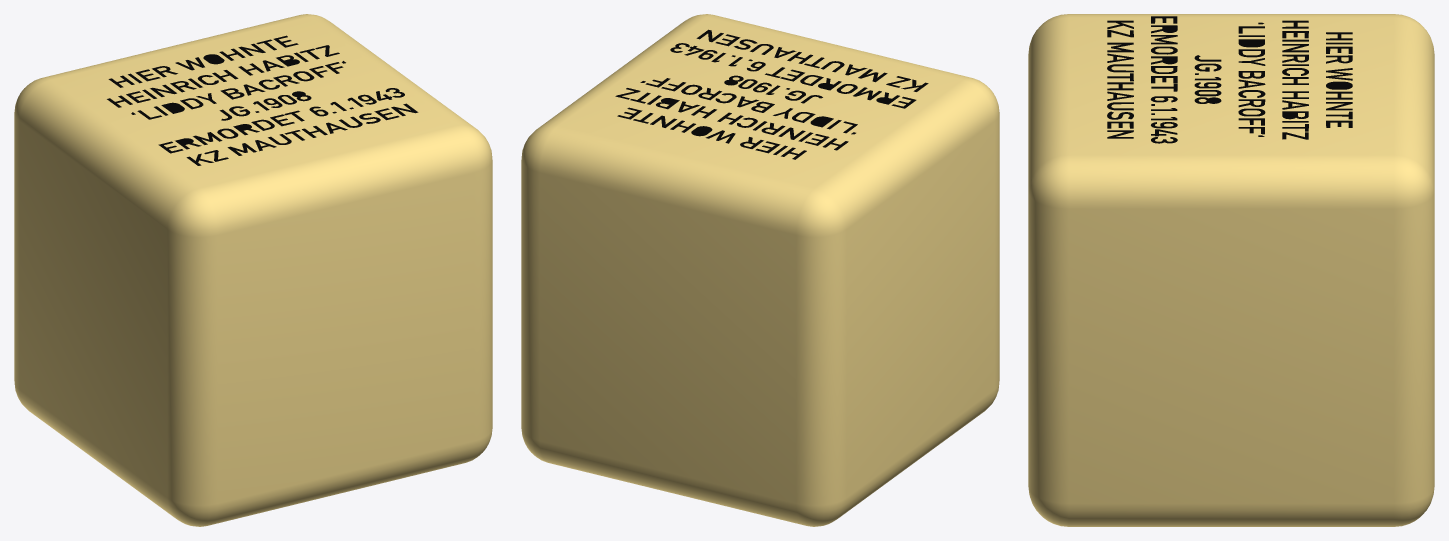
File: Stolperstein1.glb
The picture shows the model from 3 angles, left to right: view 1: azimuth 30°, elevation 25°; view 2: azimuth 150°, elevation 25°; view 3: azimuth 270°, elevation 25°; orthographic projection. The views are drawn at different scales.
Visible parts, largest first — view 1: Cube, Text; view 2: Cube, Text; view 3: Cube, Text.
Part boxes in pixels (x1,y1,x2,y2): Cube: [14, 14, 492, 526]; Text: [107, 35, 418, 165]; Cube: [521, 14, 999, 526]; Text: [615, 29, 928, 159]; Cube: [1028, 14, 1434, 526]; Text: [1107, 16, 1352, 143].
Bounding box in the file's own units: 9.28 × 9.43 × 9.28.
